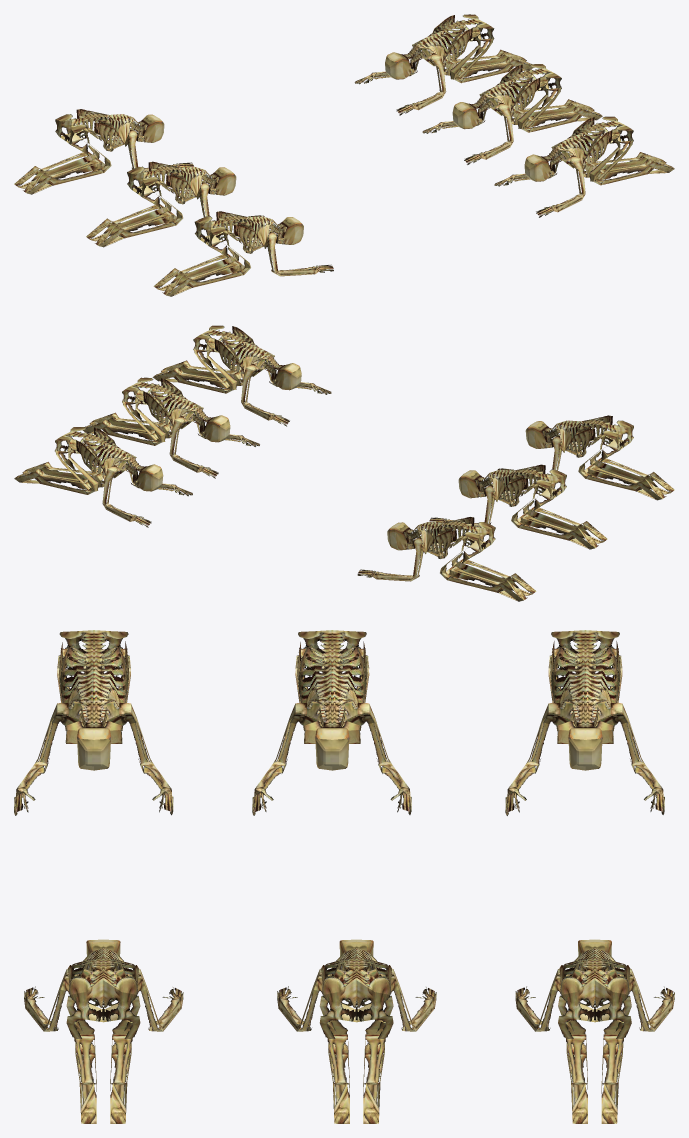
File: SKELETONS_KNELING.fbx
The picture shows the model from 3 angles, top to bottom: view 1: azimuth 30°, elevation 25°; view 2: azimuth 150°, elevation 25°; view 3: azimuth 270°, elevation 25°; orthographic projection. The views are drawn at different scales.
Parts seen in each view (by area): view 1: esqueleto_chao, esqueleto_chao1, esqueleto_chao2, esqueleto_chao3, esqueleto_chao5, esqueleto_chao4; view 2: esqueleto_chao2, esqueleto_chao, esqueleto_chao1, esqueleto_chao5, esqueleto_chao4, esqueleto_chao3; view 3: esqueleto_chao5, esqueleto_chao4, esqueleto_chao3, esqueleto_chao, esqueleto_chao2, esqueleto_chao1.
Boxes of the visible parts, left/top/right/bottom form: esqueleto_chao: left=494, top=116, right=674, bottom=217; esqueleto_chao1: left=422, top=64, right=602, bottom=164; esqueleto_chao2: left=354, top=14, right=533, bottom=115; esqueleto_chao3: left=153, top=211, right=333, bottom=296; esqueleto_chao5: left=14, top=109, right=193, bottom=194; esqueleto_chao4: left=86, top=161, right=264, bottom=247; esqueleto_chao2: left=14, top=427, right=192, bottom=527; esqueleto_chao: left=152, top=325, right=331, bottom=426; esqueleto_chao1: left=83, top=377, right=259, bottom=478; esqueleto_chao5: left=357, top=517, right=536, bottom=601; esqueleto_chao4: left=429, top=464, right=607, bottom=549; esqueleto_chao3: left=497, top=415, right=674, bottom=500; esqueleto_chao5: left=505, top=630, right=664, bottom=815; esqueleto_chao4: left=252, top=630, right=411, bottom=815; esqueleto_chao3: left=14, top=630, right=173, bottom=815; esqueleto_chao: left=24, top=939, right=183, bottom=1123; esqueleto_chao2: left=515, top=939, right=674, bottom=1123; esqueleto_chao1: left=277, top=939, right=436, bottom=1123.
Size of the model in its own units: 877 by 97.82 by 558.
1 material, 1 textured.
